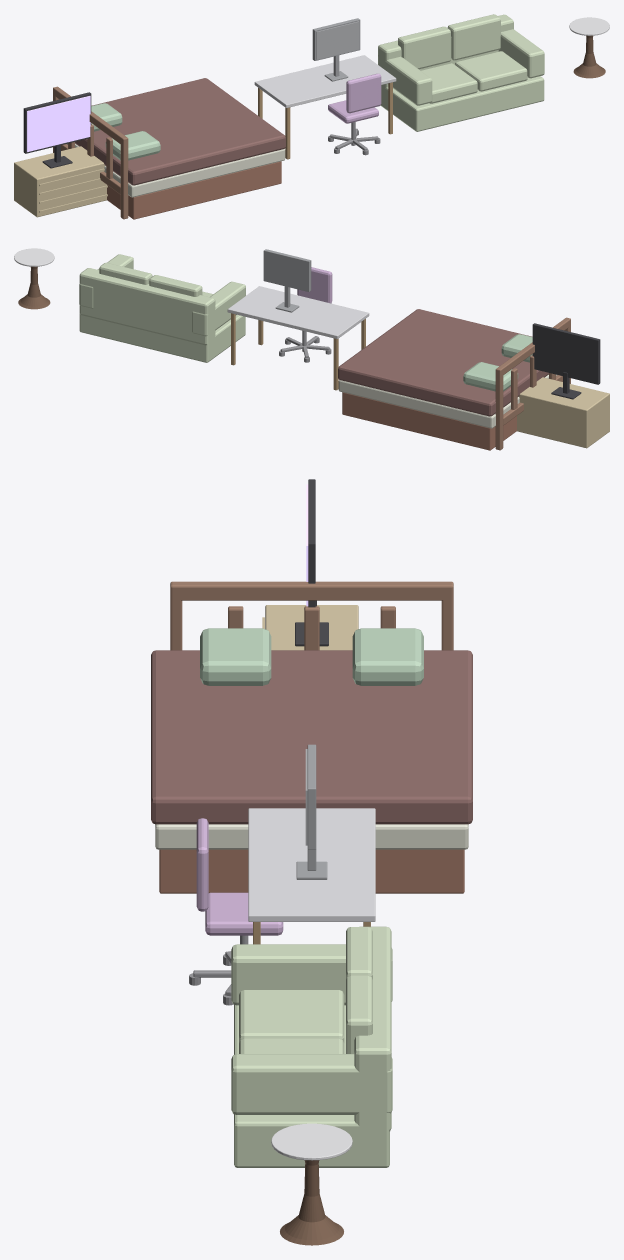
File: agent_scene.glb
The picture shows the model from 3 angles, top to bottom: view 1: azimuth 30°, elevation 25°; view 2: azimuth 150°, elevation 25°; view 3: azimuth 270°, elevation 25°; orthographic projection. The views are drawn at different scales.
Parts seen in each view (by area): view 1: bed, sofa, tv_cabinet, desk, tv, chair, monitor, sidetable; view 2: bed, sofa, tv_cabinet, desk, tv, monitor, chair, sidetable; view 3: bed, sofa, desk, sidetable, chair, tv_cabinet, monitor, tv.
Part boxes in pixels (x1,y1,x2,y2): bed: [53, 78, 285, 219]; sofa: [378, 14, 544, 131]; tv_cabinet: [14, 146, 107, 217]; desk: [254, 55, 396, 159]; tv: [23, 92, 91, 168]; chair: [328, 73, 381, 155]; monitor: [312, 18, 360, 81]; sidetable: [569, 17, 609, 78]; bed: [338, 309, 570, 450]; sofa: [79, 254, 245, 362]; tv_cabinet: [517, 377, 609, 448]; desk: [227, 286, 369, 390]; tv: [532, 323, 600, 399]; monitor: [263, 249, 311, 312]; chair: [279, 267, 332, 362]; sidetable: [14, 248, 54, 309]; bed: [151, 581, 472, 893]; sofa: [231, 926, 392, 1167]; desk: [248, 808, 375, 944]; sidetable: [271, 1123, 352, 1245]; chair: [189, 818, 283, 1005]; tv_cabinet: [262, 605, 358, 650]; monitor: [296, 744, 327, 879]; tv: [295, 479, 328, 646].
Bounding box in the file's own units: 7.94 × 1.42 × 1.9.
